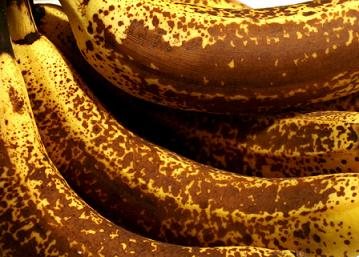looks_defective: (74, 10, 359, 140)
